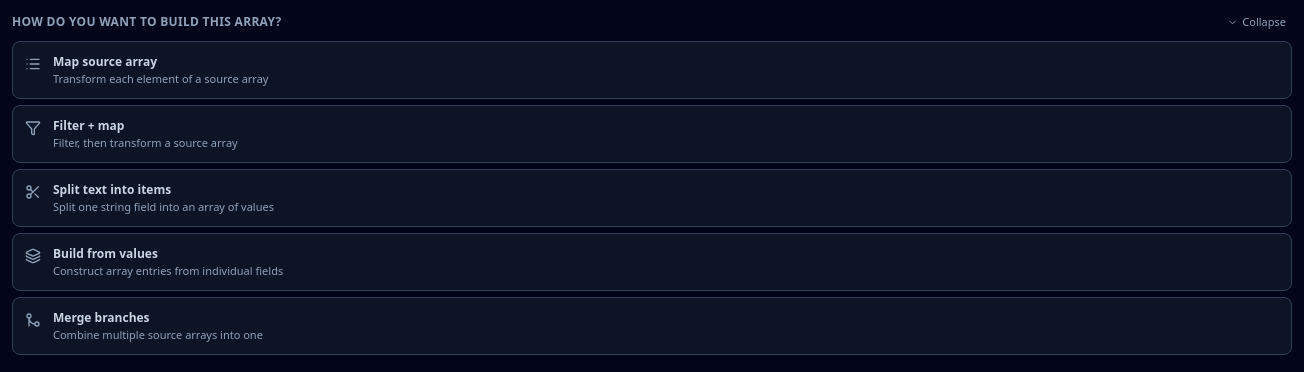
ArrayModeSelector › collapses to selected summary after choosing a mode
Click the radio button with test id "mode-card-filterMap".
click(89, 125)  # box top-left (12, 105), bottom-right (1292, 163)
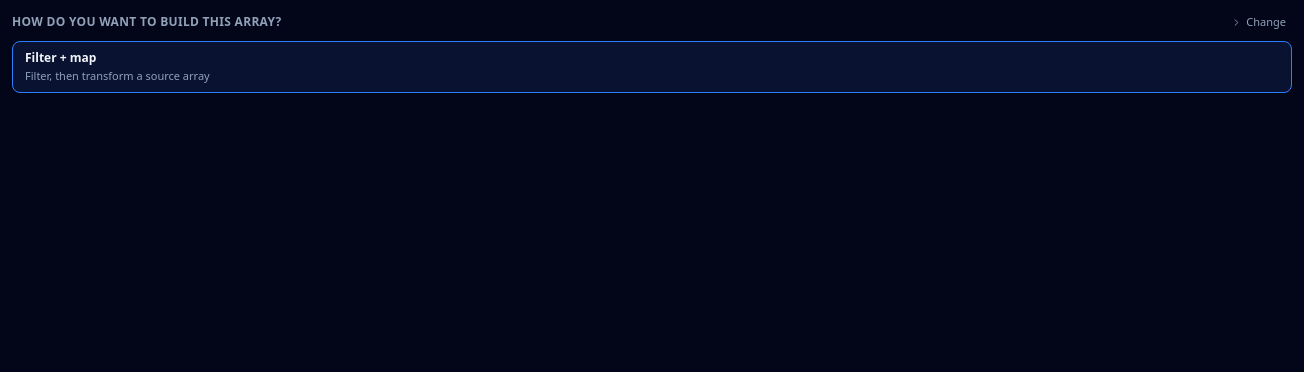
Expected: the element with test id "array-mode-selected-summary" shows "Filter + map", top-left (25, 48), bottom-right (96, 66)
Result: the radio button with test id "mode-card-map" is gone
